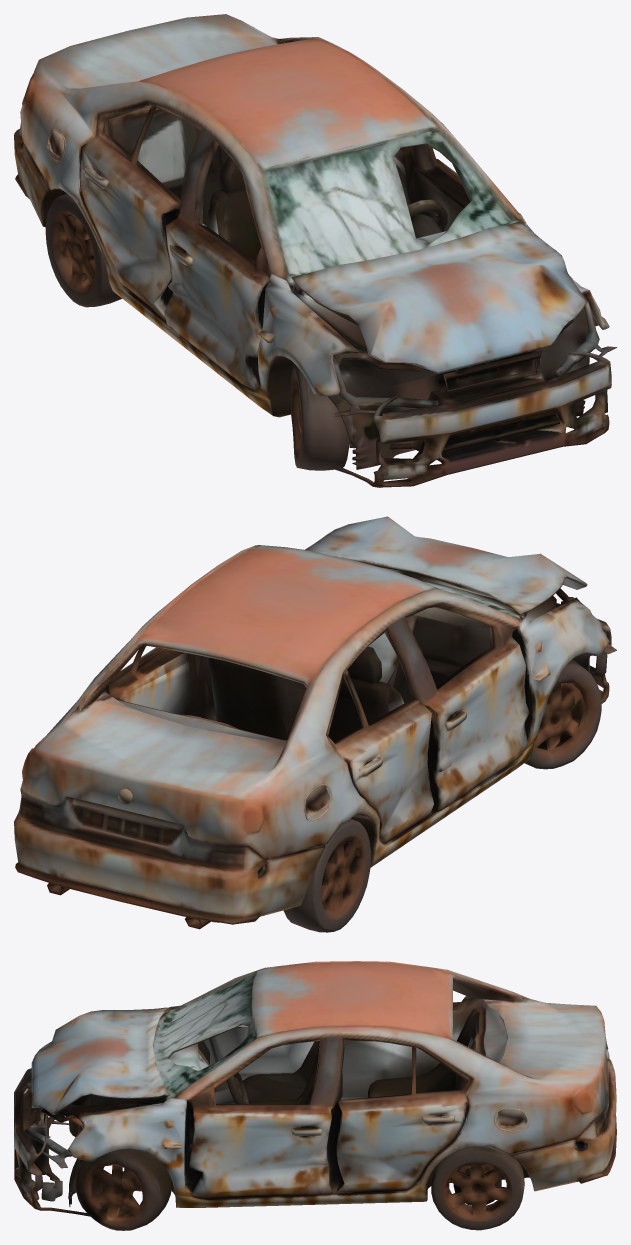
File: Vehicles__BrokenRustyCar3.cluster.glb
The picture shows the model from 3 angles, top to bottom: view 1: azimuth 30°, elevation 25°; view 2: azimuth 150°, elevation 25°; view 3: azimuth 270°, elevation 25°; orthographic projection. The views are drawn at different scales.
Visible parts, largest first — view 1: BrokenRustyCar3; view 2: BrokenRustyCar3; view 3: BrokenRustyCar3.
Part boxes in pixels (left/top/right/bottom): BrokenRustyCar3: left=14, top=14, right=616, bottom=487; BrokenRustyCar3: left=14, top=516, right=616, bottom=932; BrokenRustyCar3: left=14, top=961, right=616, bottom=1230.
Bounding box in the file's own units: 0.4746 × 0.3721 × 1.06.
Materials: 1 (1 with a texture image).
